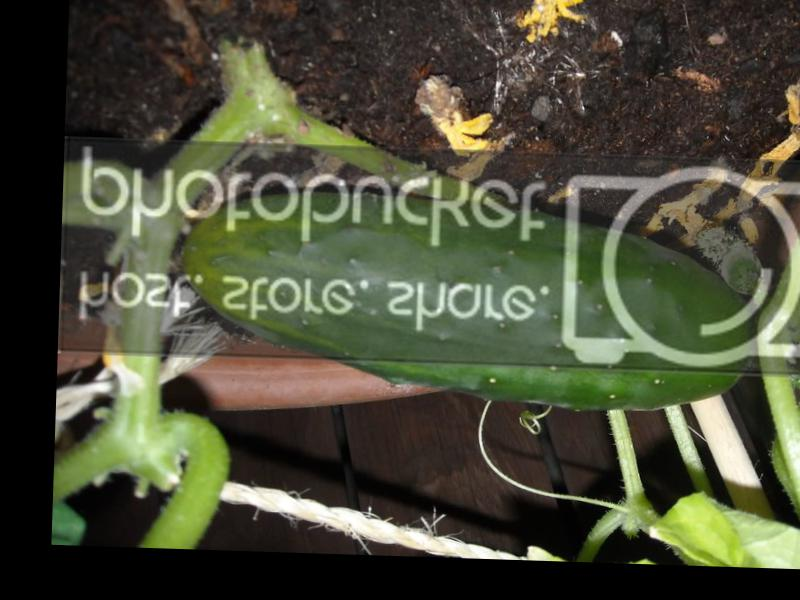Cucumber: (178, 182, 756, 413)
